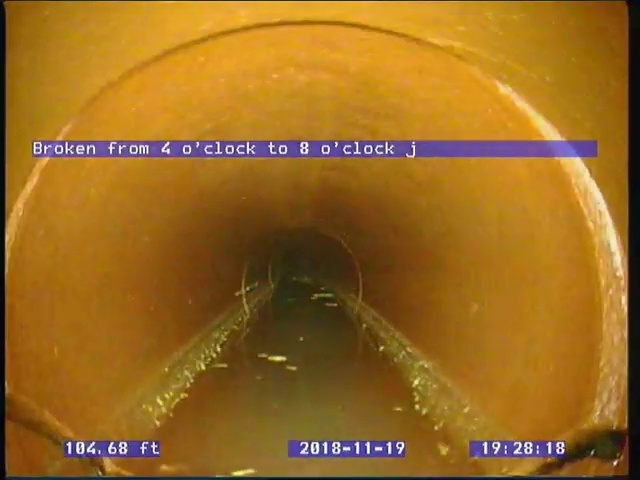crack: (6, 387, 121, 477), (523, 422, 628, 475)
